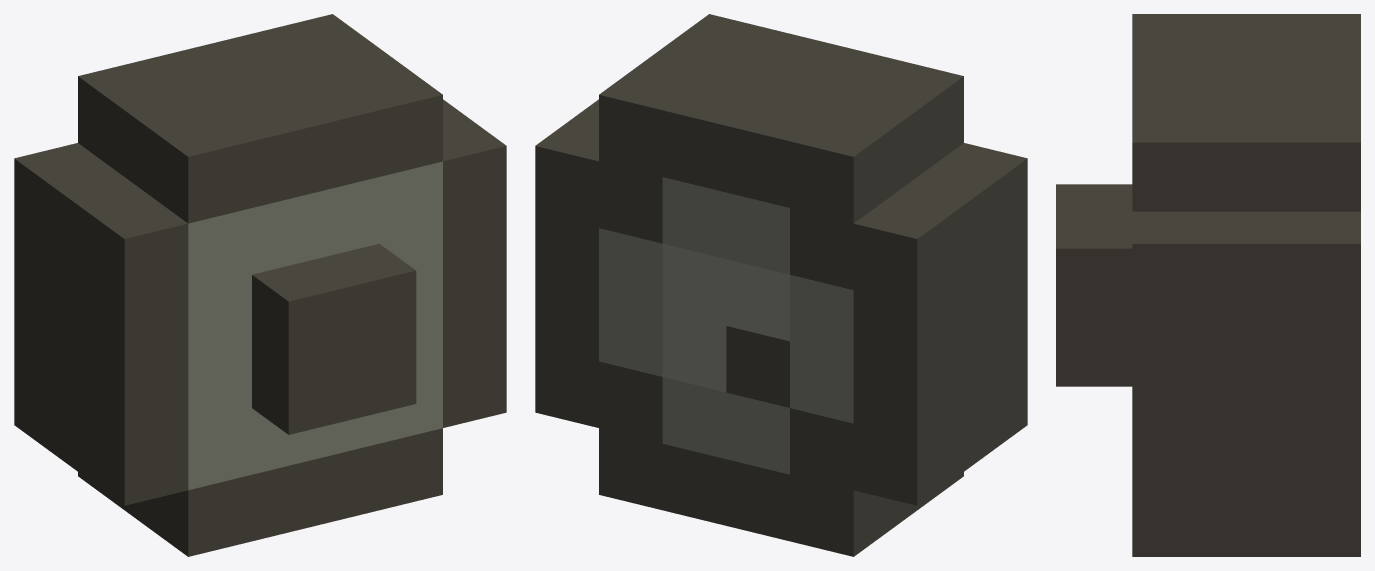
File: Kart-1.obj
The picture shows the model from 3 angles, left to right: view 1: azimuth 30°, elevation 25°; view 2: azimuth 150°, elevation 25°; view 3: azimuth 270°, elevation 25°; orthographic projection. The views are drawn at different scales.
Parts seen in each view (by area): view 1: Kart-1.001; view 2: Kart-1.001; view 3: Kart-1.001.
Boxes of the visible parts, x1,y1,x2,y2 form: Kart-1.001: (14,14,506,556); Kart-1.001: (535,14,1027,556); Kart-1.001: (1056,14,1360,556).
Size of the model in its own units: 0.6 by 0.6 by 0.4.
